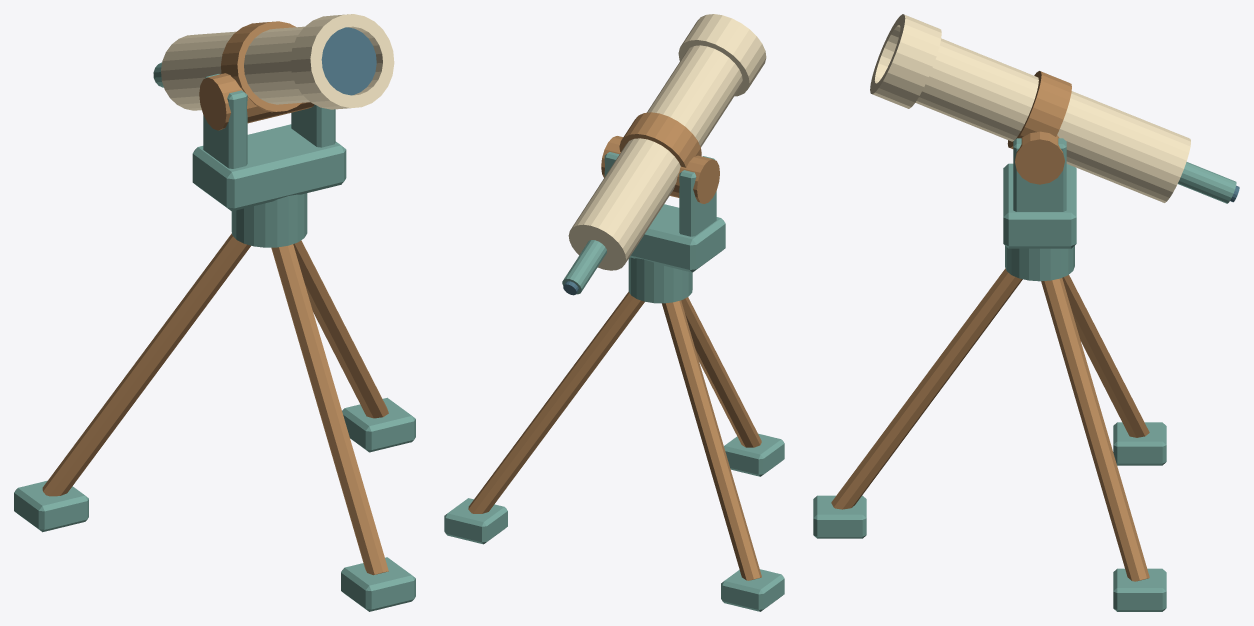
3 views of the same model, side by side, from view 1: azimuth 30°, elevation 25°; view 2: azimuth 150°, elevation 25°; view 3: azimuth 270°, elevation 25° (orthographic). The views are drawn at different scales.
Parts seen in each view (by area): view 1: astronomy-tripod-telescope-01; view 2: astronomy-tripod-telescope-01; view 3: astronomy-tripod-telescope-01.
Part boxes in pixels (box(x1,y1,x2,y2)): astronomy-tripod-telescope-01: box(14, 14, 415, 611); astronomy-tripod-telescope-01: box(444, 14, 784, 611); astronomy-tripod-telescope-01: box(813, 14, 1239, 611).
Bounding box in the file's own units: 1.2 × 1.69 × 1.28.
